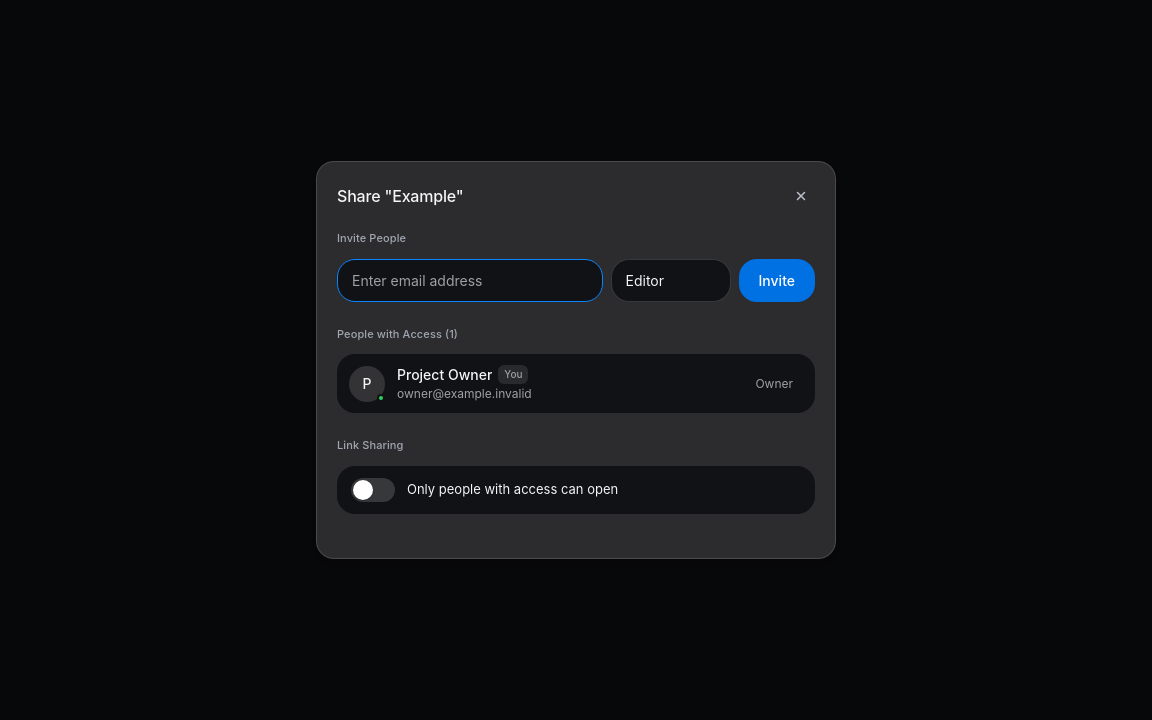
it: toggles link sharing with a native button and reports a denied clipboard write
Step 1. Click the switch named "Link sharing" → point(373, 490), box [351, 478, 395, 502]
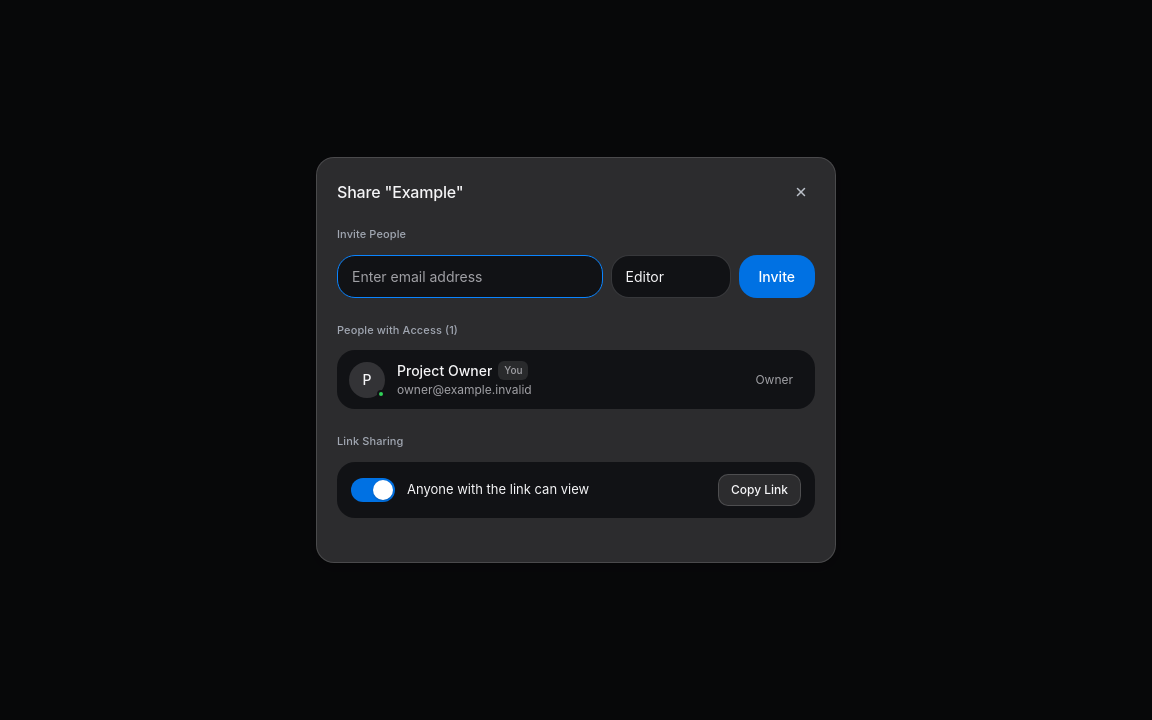
Expected: the switch named "Link sharing" is checked, [351, 478, 395, 502]
Step 2. Click the button "Copy Link" → point(759, 490), box [718, 474, 801, 506]
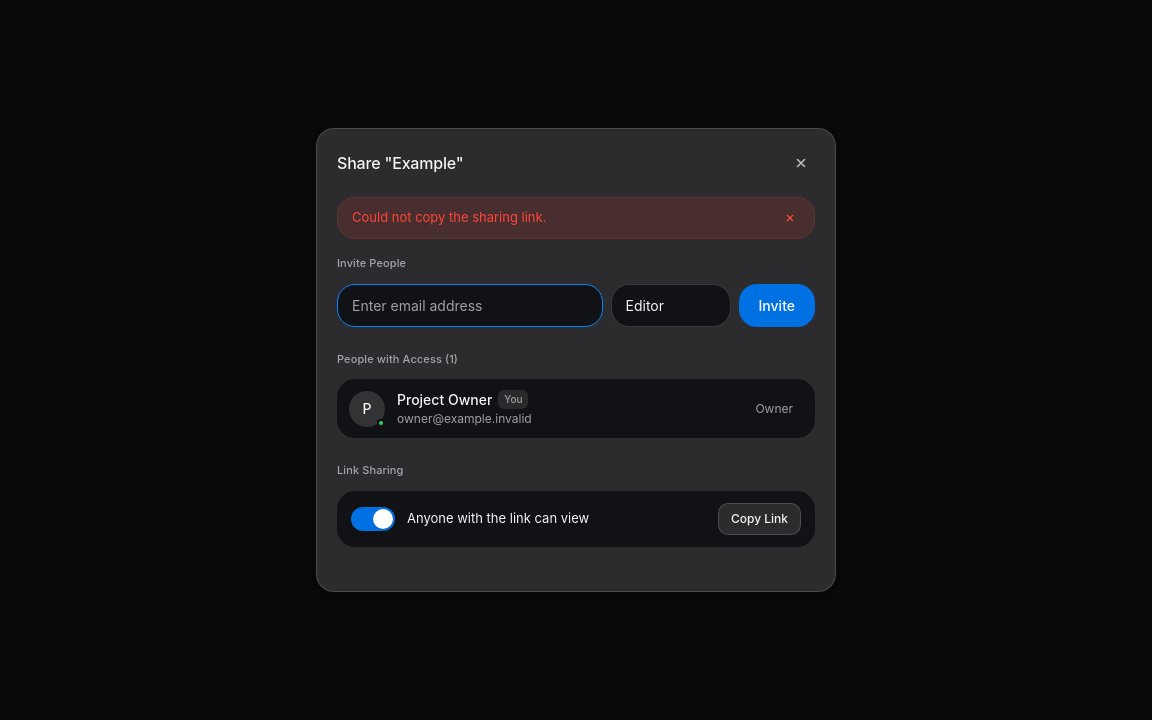
Expected: the button "Copy Link" is shown
Expected: the message shows "Could not copy the sharing link", [352, 210, 546, 226]
Step 3. Click the button "Copy Link" → point(759, 519), box [718, 503, 801, 535]
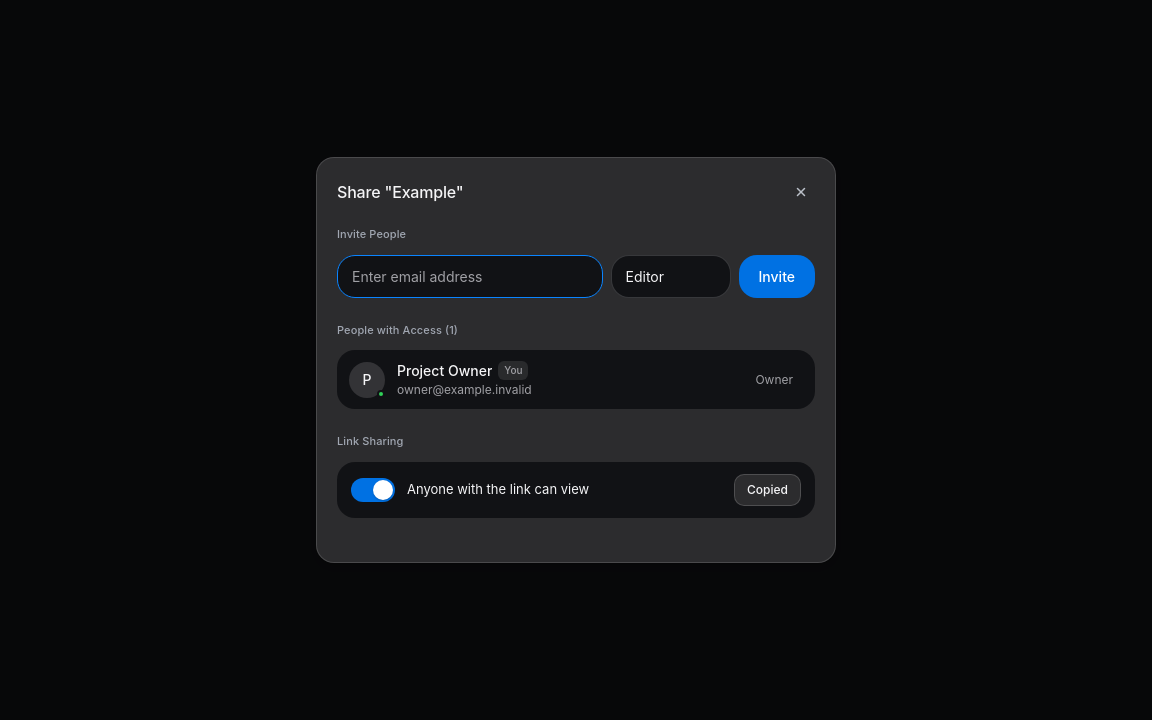
Expected: the button "Copied" is shown, [734, 474, 801, 506]
Expected: the message "Could not copy the sharing link." is gone
